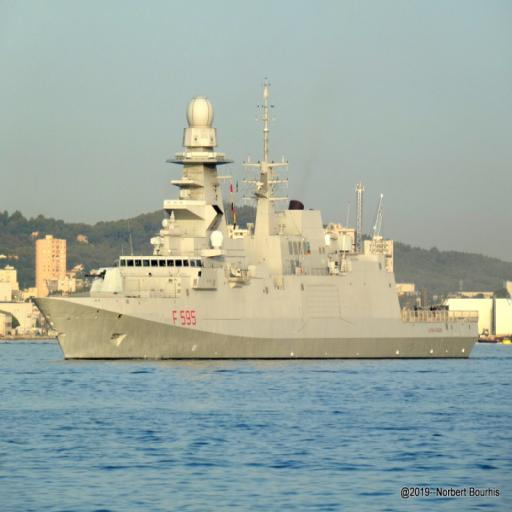Fragata: (32, 82, 486, 369)
